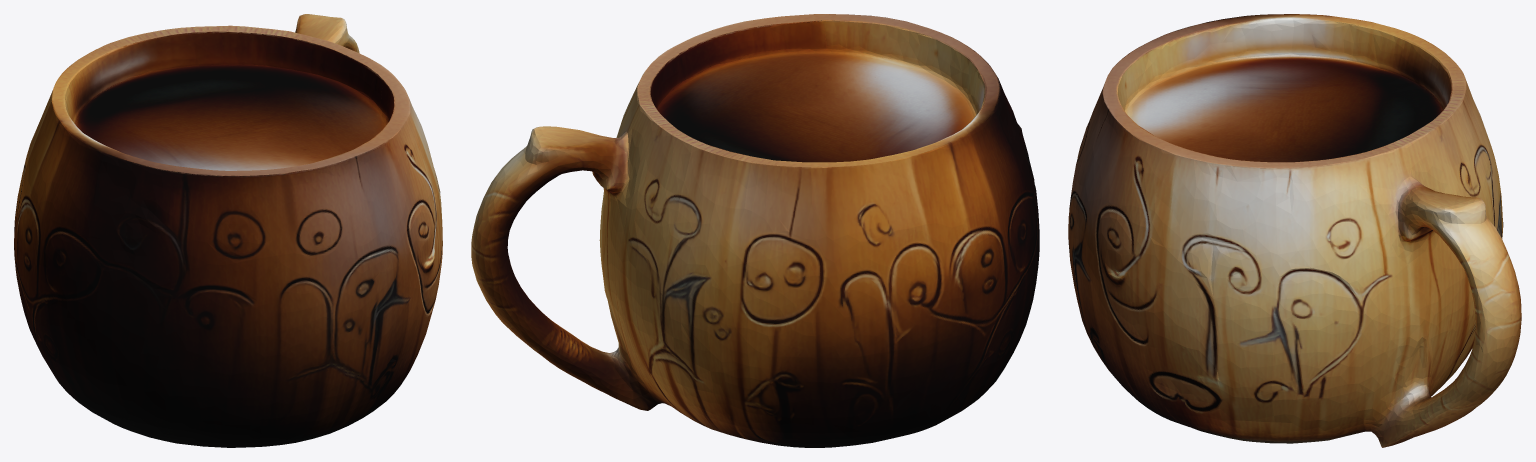
File: coconut-shell-mug-vintage.jpeg.glb
The picture shows the model from 3 angles, left to right: view 1: azimuth 30°, elevation 25°; view 2: azimuth 150°, elevation 25°; view 3: azimuth 270°, elevation 25°; orthographic projection. The views are drawn at different scales.
Visible parts, largest first — view 1: world; view 2: world; view 3: world.
Part boxes in pixels (bbox=[...]): world: bbox=[14, 14, 442, 447]; world: bbox=[471, 14, 1039, 447]; world: bbox=[1068, 14, 1521, 447].
Bounding box in the file's own units: 0.995 × 0.6671 × 0.9192.
Materials: 1 (1 with a texture image).
